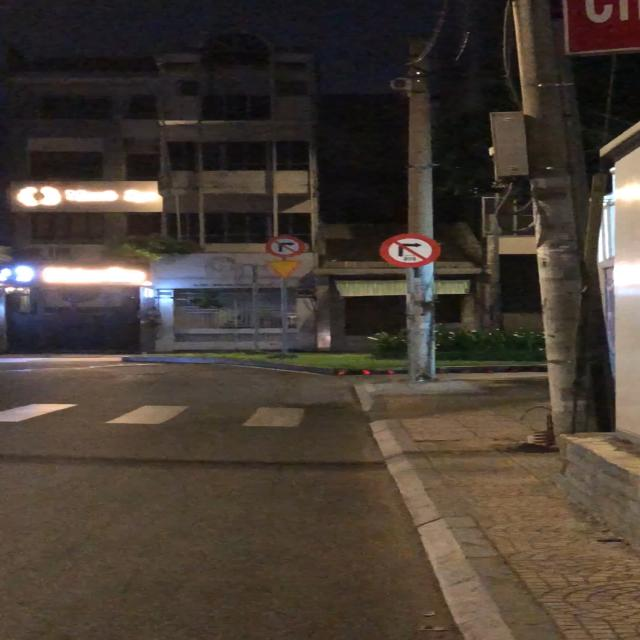Bien bao cam re phai: (264, 235, 304, 258)
Bien bao cam xe o to re phai: (378, 232, 441, 268)
Bien bao giao nhau voi duong uu tien: (261, 258, 307, 281)
